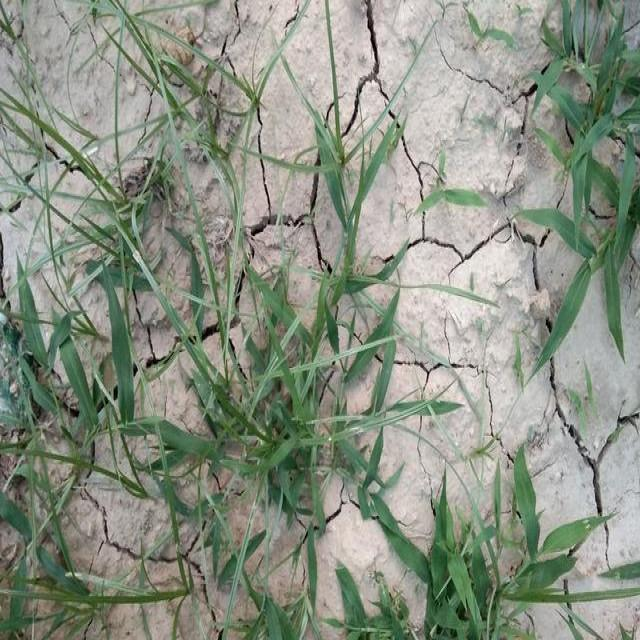weed: (148, 266, 404, 566), (14, 266, 162, 640), (350, 465, 640, 633), (542, 8, 640, 388), (0, 87, 178, 293), (134, 22, 276, 244)
